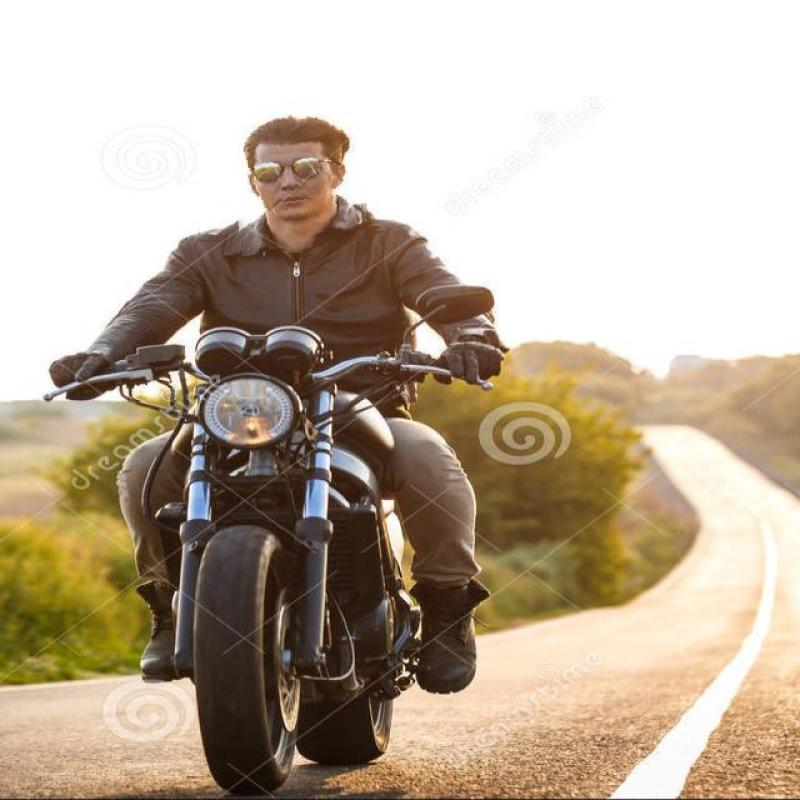nohelmet: (228, 94, 368, 252)
